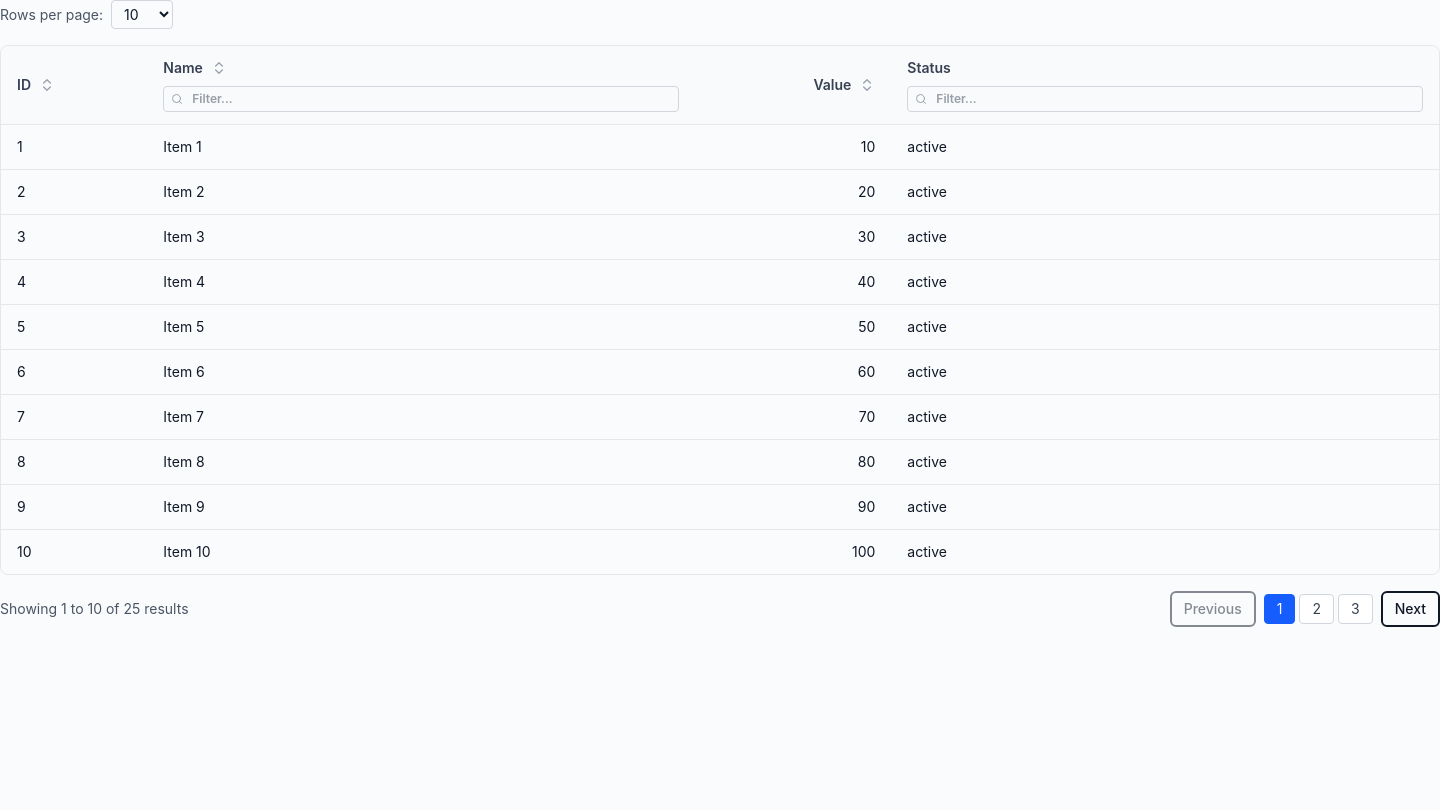
Test: DataTable › Pagination › should change page size
Select "25" in the dropdown labelled "Rows per page:" at (142, 14), box [111,0,173,29]
(page scrolled)
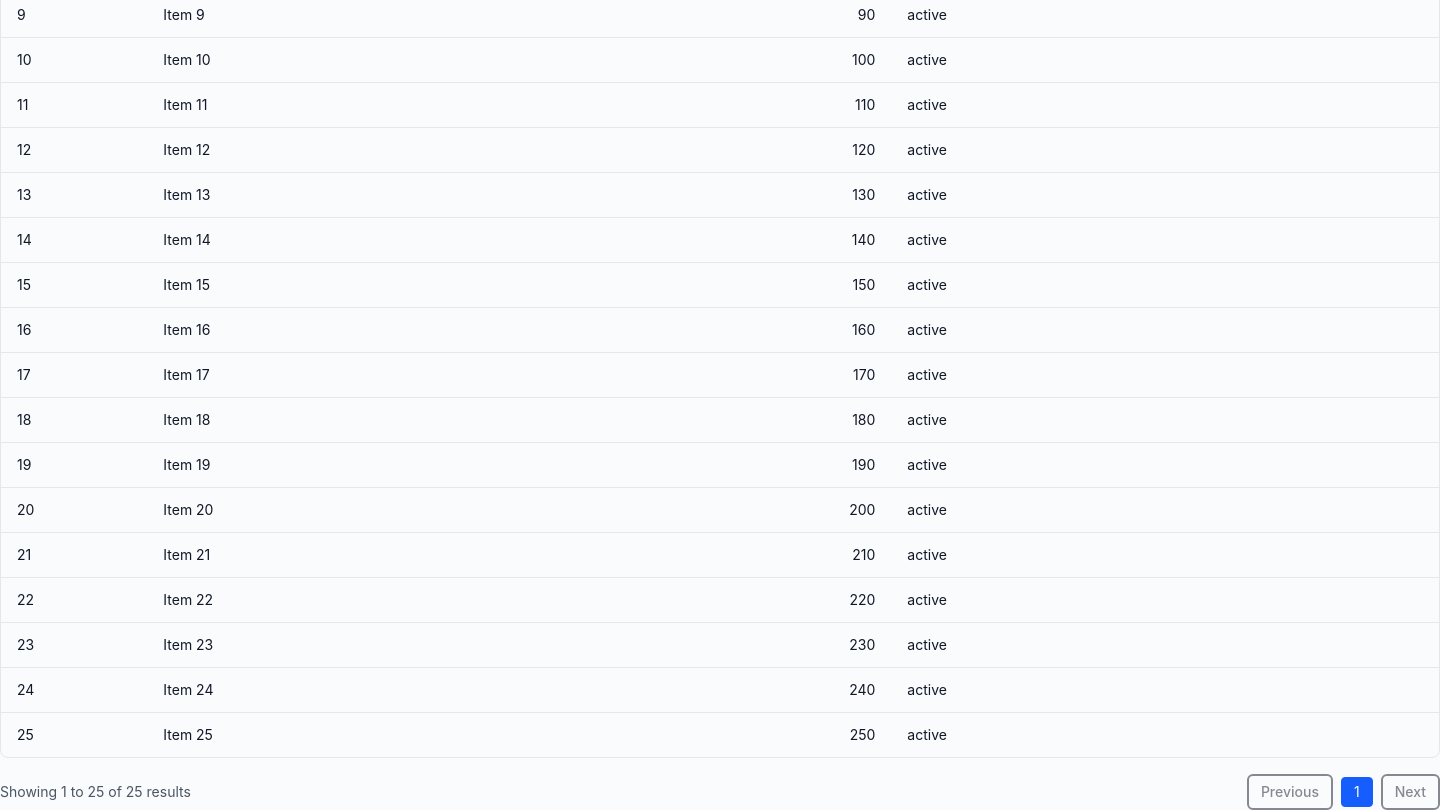
Expected: the text "Showing 1 to 25 of 25 results" is shown, [0,782,191,802]
